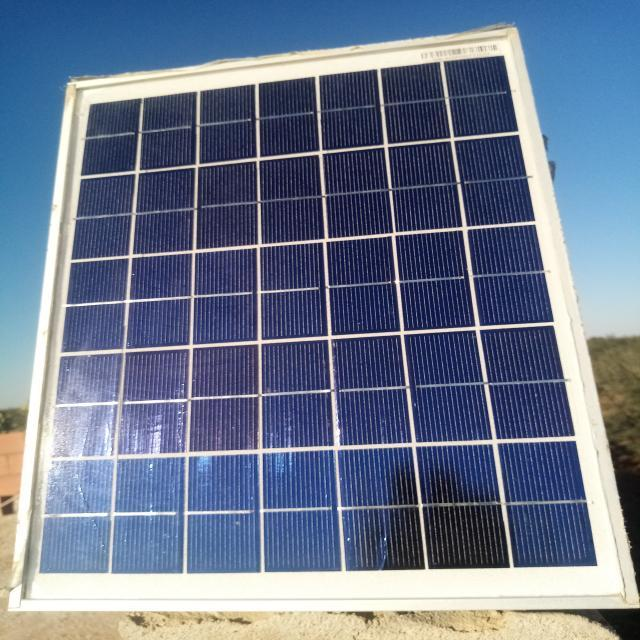no faulty: (16, 32, 636, 606)
